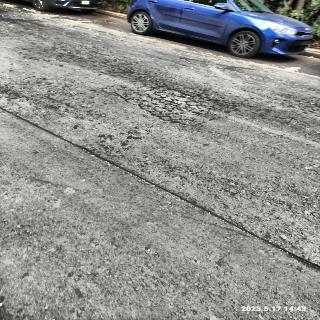alligator-crack: (101, 72, 236, 128)
crack: (103, 154, 319, 270), (1, 102, 99, 154)
